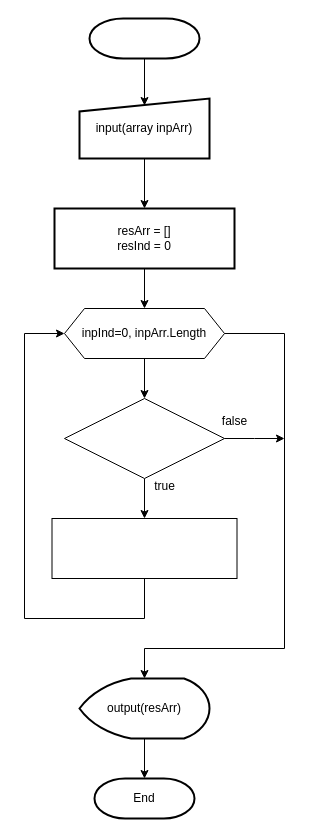
Some shapes in this 310 by 836 pixel diagram are drawn without their labels. Here are the shapes that lost their labels. From the top down, the centre of each, then its label:
At (144,38): "Begin".
At (144,438): "inpArr[inpInd].Length <= 3".
At (144,548): "resArr.Resize(inpArr.Length+1) resArr[resInd] = inpArr[inpInd] resInd++".
